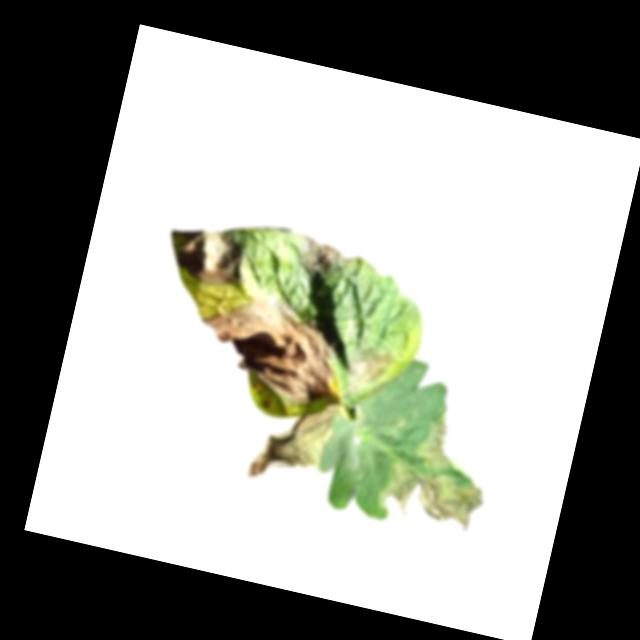Late_blight: (188, 284, 352, 409), (375, 399, 505, 536), (241, 389, 344, 498), (161, 220, 252, 291), (342, 341, 395, 401), (295, 234, 352, 283)
